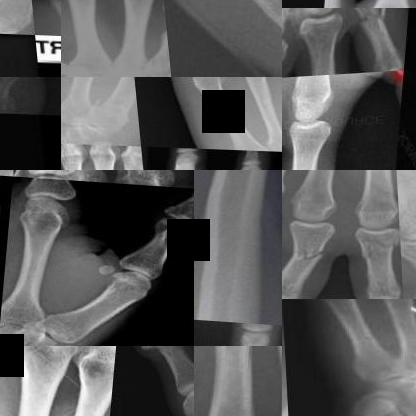fracture: (350, 224, 399, 264), (282, 235, 337, 270), (82, 92, 129, 130), (356, 8, 393, 40), (262, 0, 281, 53), (133, 346, 187, 354), (389, 73, 407, 94)
